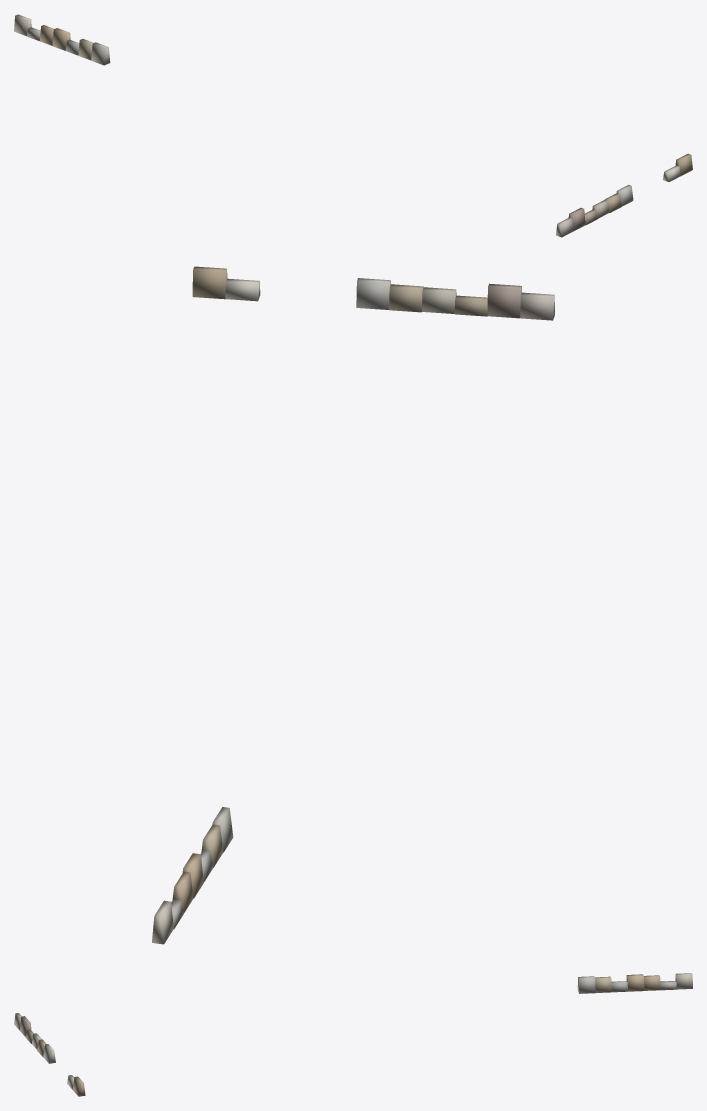
File: farm_-31_-41_collision.glb
3 renders of one model, top to bottom at view 1: azimuth 30°, elevation 25°; view 2: azimuth 150°, elevation 25°; view 3: azimuth 270°, elevation 25°, orthographic. The views are drawn at different scales.
Parts seen in each view (by area): view 1: geometry_0; view 2: geometry_0; view 3: geometry_0.
Part boxes in pixels (x1,y1,x2,y2): geometry_0: (14, 14, 692, 237); geometry_0: (152, 266, 554, 944); geometry_0: (14, 973, 692, 1096).
Size of the model in its own units: 31.72 by 4.77 by 64.09.
